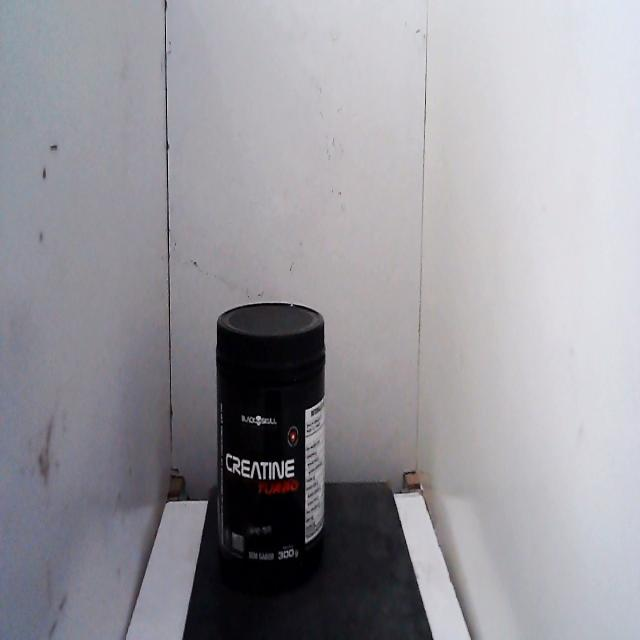plastico: (207, 276, 333, 600)
